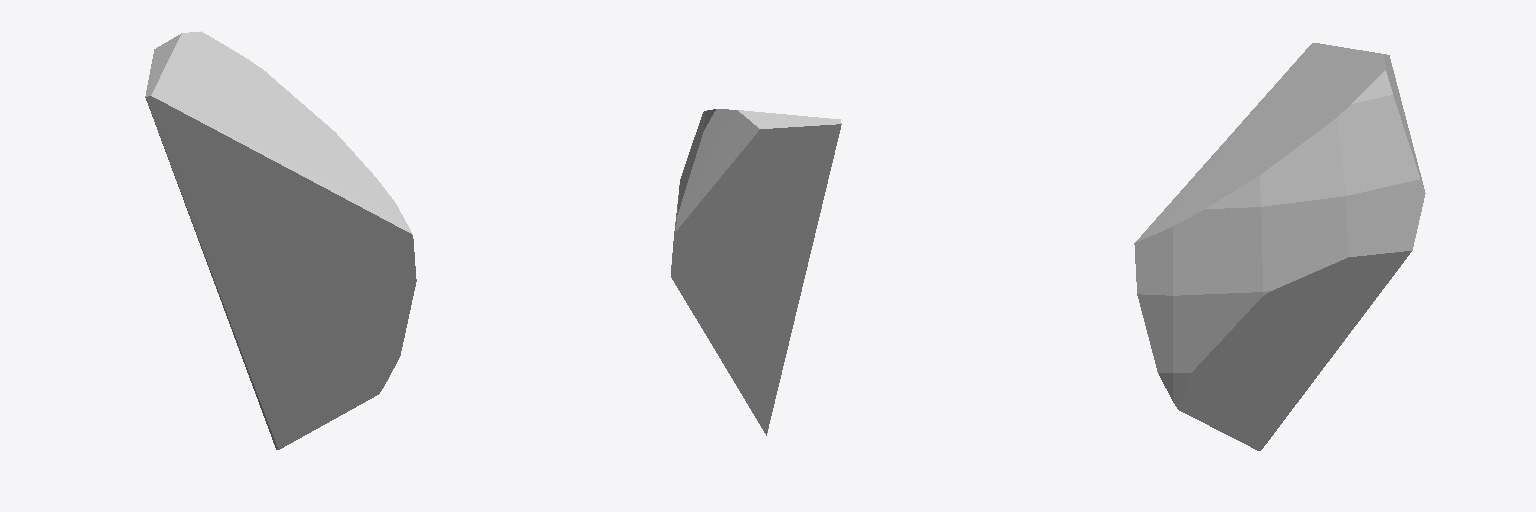
Rendered from Sphere_Cell_Fracture48.obj.
3 renders of one model, left to right at view 1: azimuth 30°, elevation 25°; view 2: azimuth 150°, elevation 25°; view 3: azimuth 270°, elevation 25°, orthographic.
Size of the model in its own units: 0.4631 by 0.9097 by 0.6326.